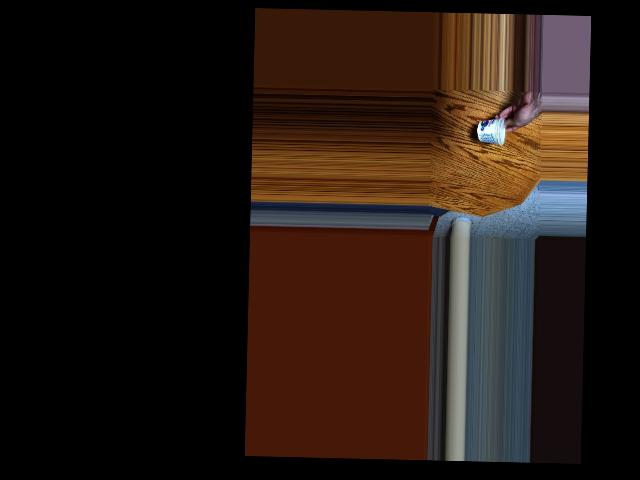cotage: (478, 114, 512, 150)
